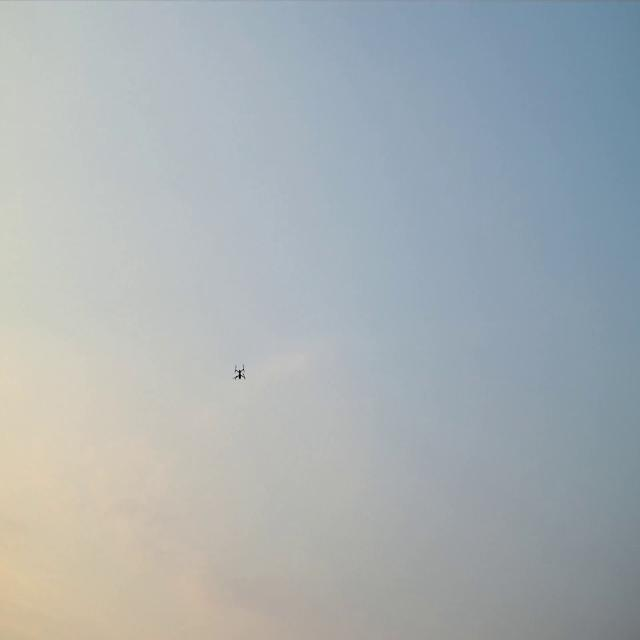UAV: (236, 367, 244, 379)
